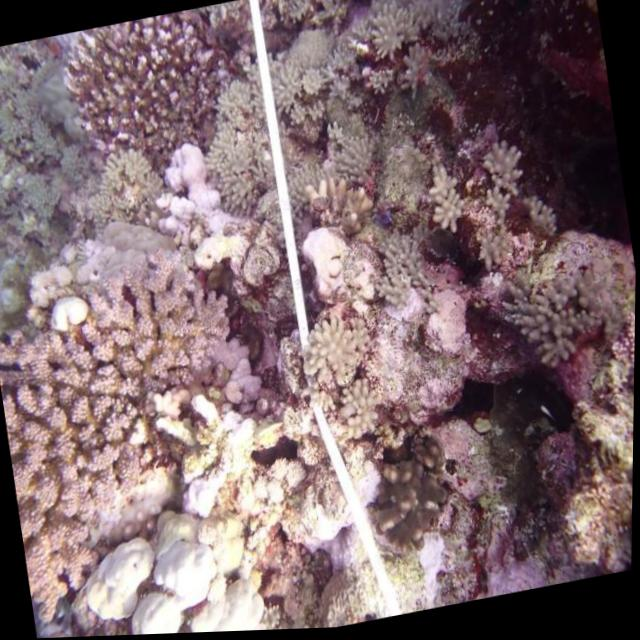Bleached Coral: (51, 460, 276, 638), (227, 34, 418, 218), (136, 115, 268, 286), (496, 237, 637, 388), (321, 0, 490, 125), (16, 243, 136, 357), (295, 206, 375, 326)
Healthy Coral: (0, 335, 190, 494), (55, 8, 219, 145)
